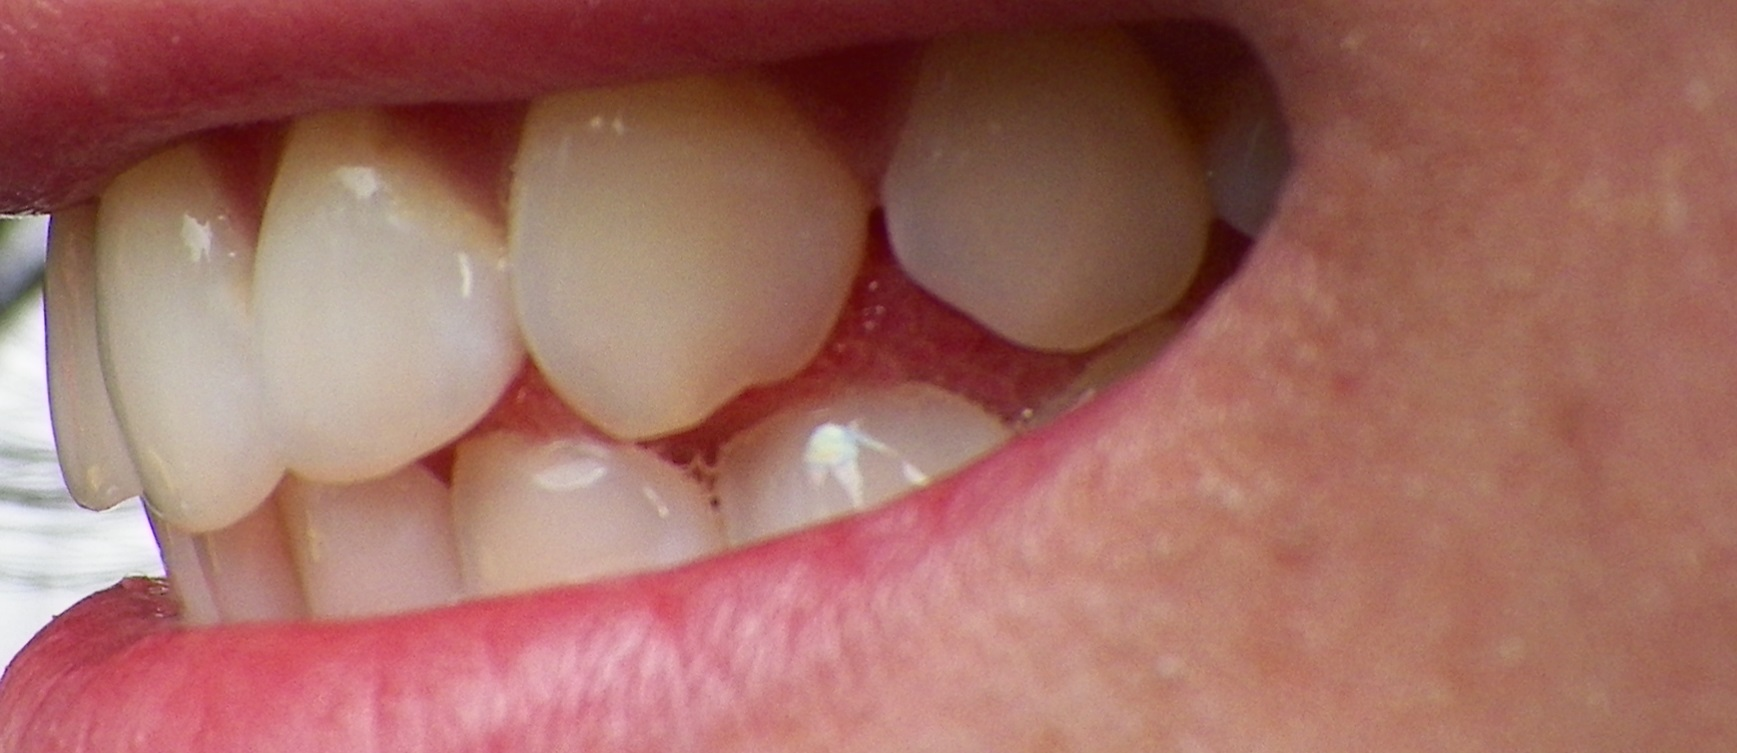boca: (50, 27, 1286, 644)
